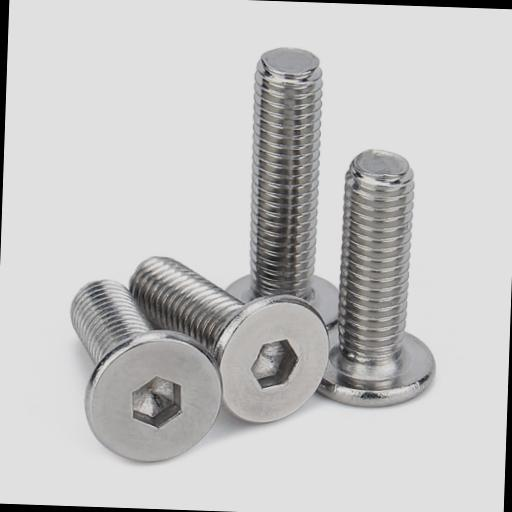Hex-Allen: (82, 325, 224, 470), (212, 292, 330, 429)
